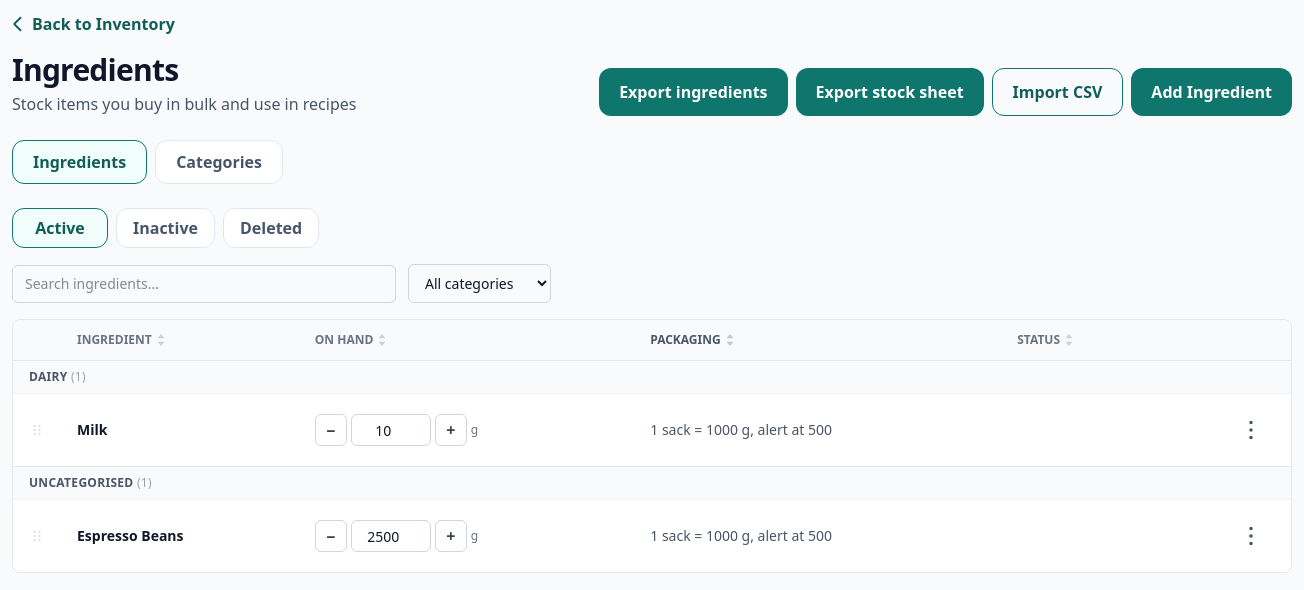
Scenario: IngredientsPage › files an ingredient under a category and filters the list by it
The width and height of the screenshot is (1304, 590).
Expected: the text "Espresso Beans" is shown, left=77, top=526, right=184, bottom=545
Select "Dairy" in the dropdown named "Filter by category" at x=480, y=284, box left=408, top=264, right=551, bottom=303
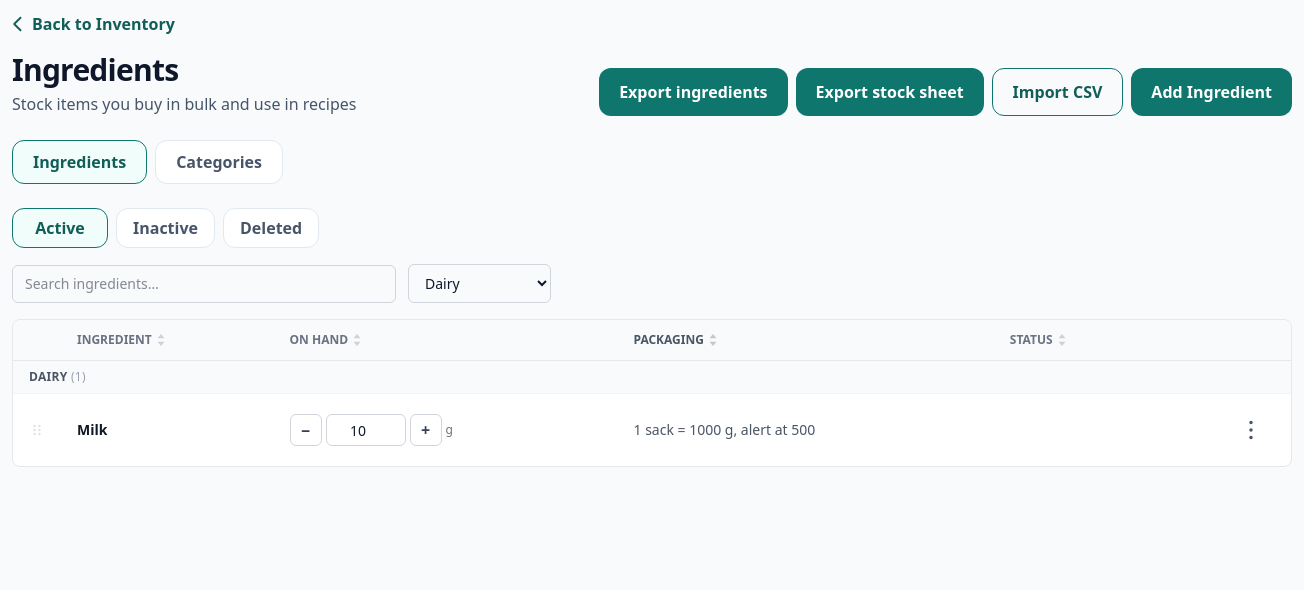
Expected: the text "Milk" is shown, left=77, top=420, right=107, bottom=439
Expected: the text "Espresso Beans" is gone
Select "Uncategorised" in the dropdown named "Filter by category" at x=480, y=284, box left=408, top=264, right=551, bottom=303
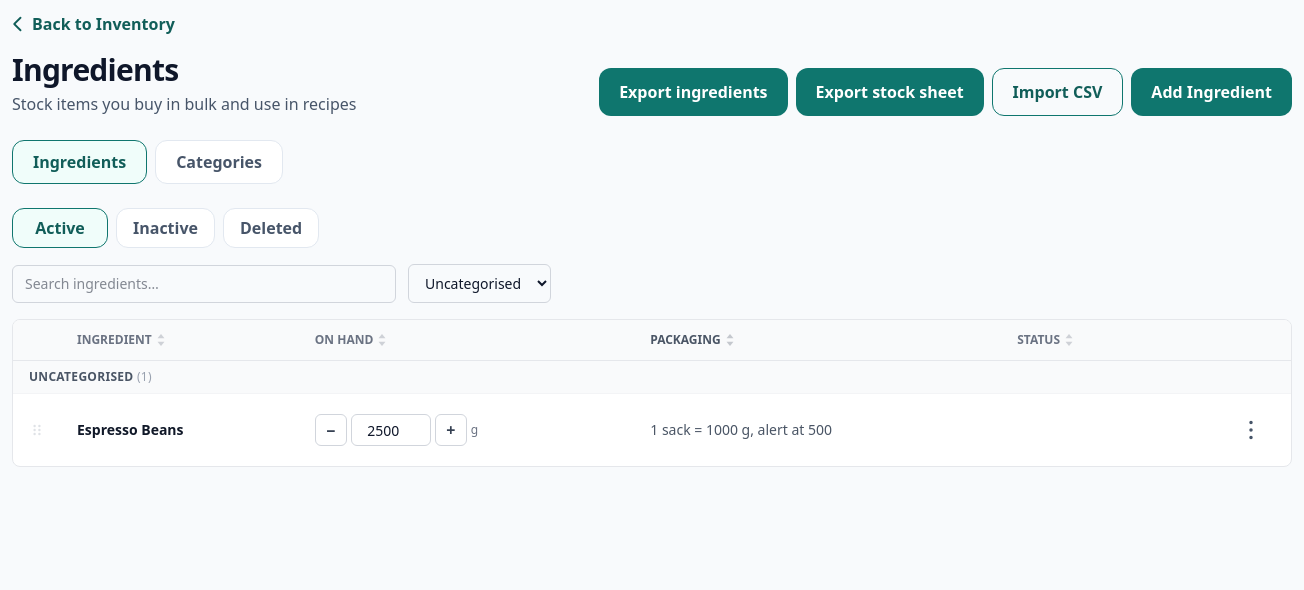
Expected: the text "Espresso Beans" is shown, left=77, top=420, right=184, bottom=439
Expected: the text "Milk" is gone
Select "All categories" in the dropdown named "Filter by category" at x=480, y=284, box left=408, top=264, right=551, bottom=303
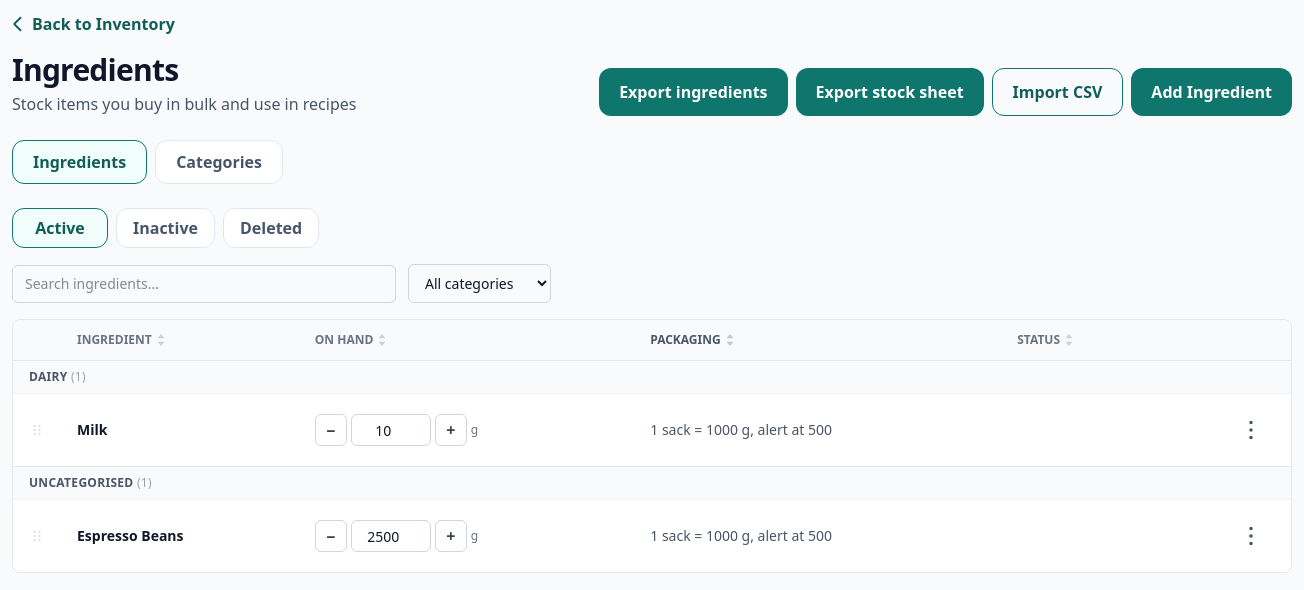
Expected: the text "Espresso Beans" is shown, left=77, top=526, right=184, bottom=545
Expected: the text "Milk" is shown, left=77, top=420, right=107, bottom=439
